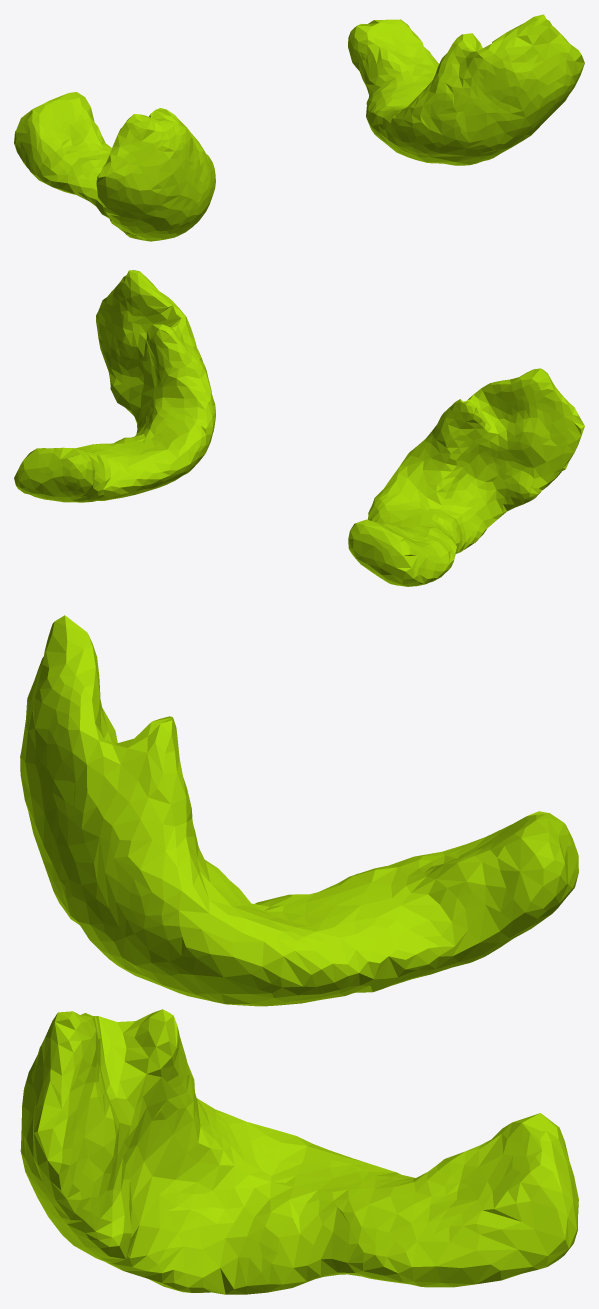
File: 185-TLR(R36)-area TL, rostral part (area 36R)-('0.7647', '1.0000', '0.0000').obj
3 renders of one model, top to bottom at view 1: azimuth 30°, elevation 25°; view 2: azimuth 150°, elevation 25°; view 3: azimuth 270°, elevation 25°, orthographic. The views are drawn at different scales.
Bounding box in the file's own units: 253 × 79.26 × 126.
